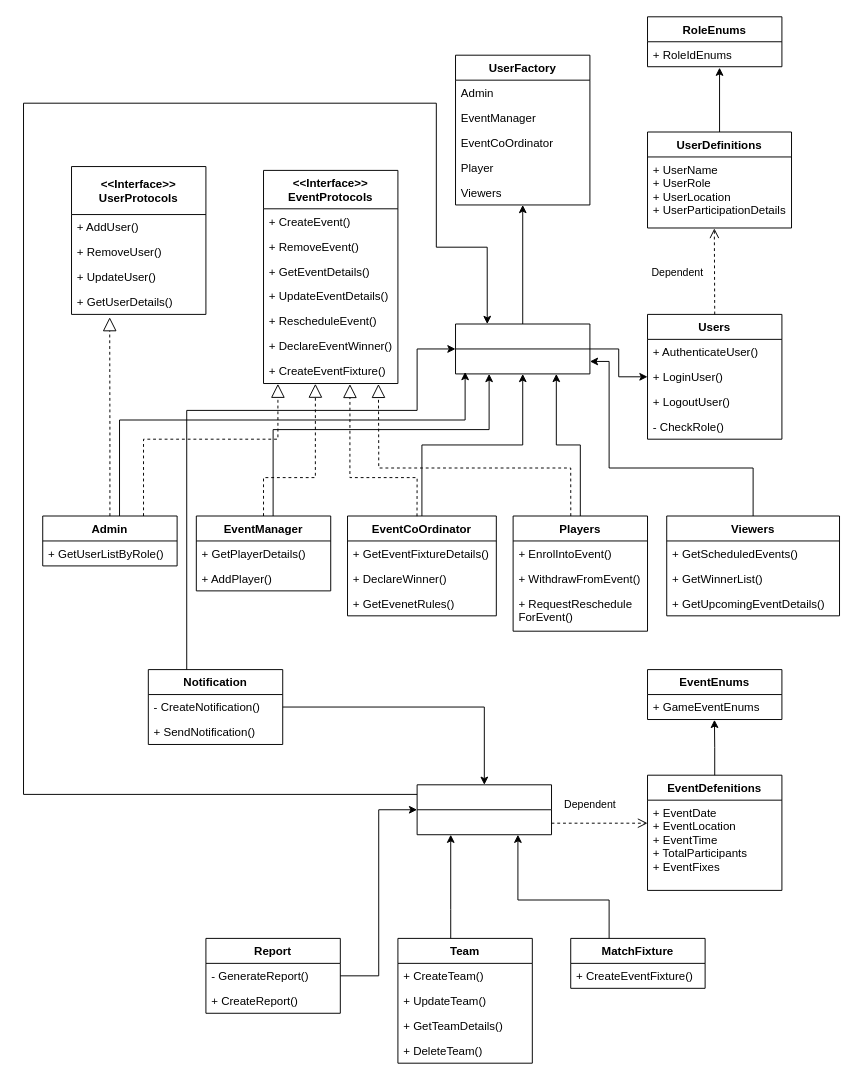
Image size: 856x1083. Some labels were removed from this diagram. The shapes that lost their labels are listed below. From the top down, each one's centre as x and y in pixels, then its label:
the point at 522,348: UserController
the point at 484,809: EventController
